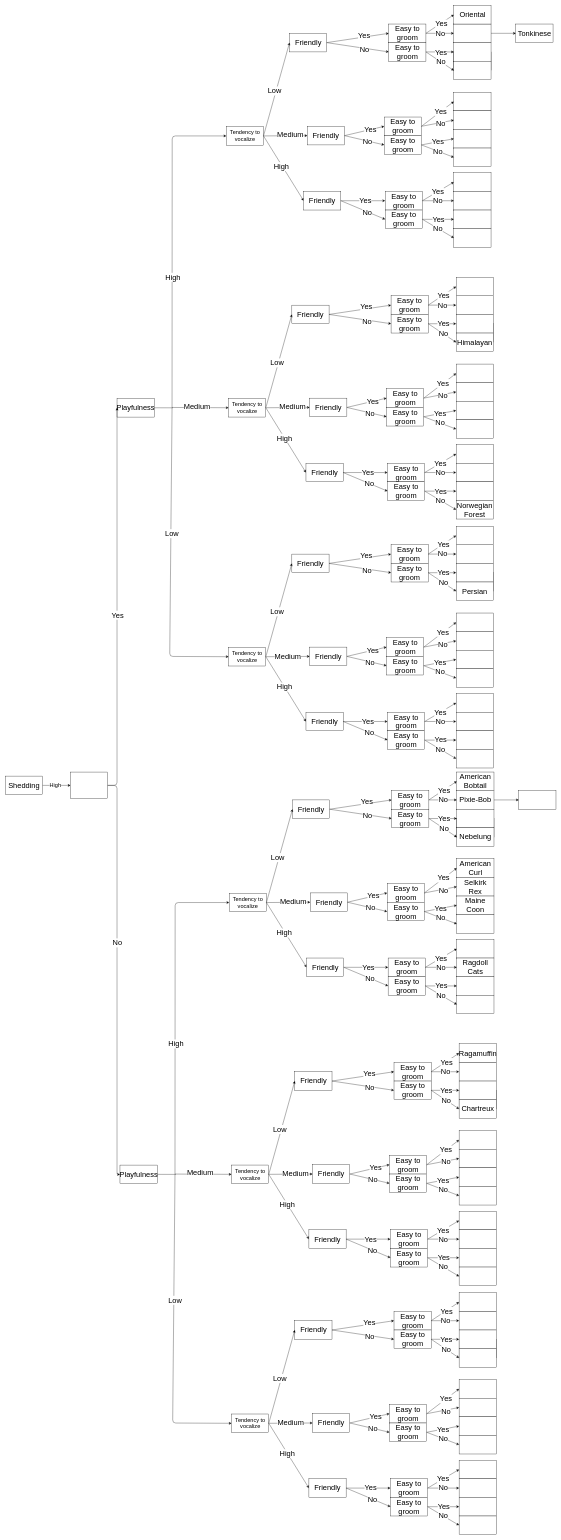
Some shapes in this 561 by 1540 pixel diagram are drawn without their labels. Each missing label, with the centre of its shape:
Cymric: (472,33)
prone to health problem: (89,785)
Siberian: (537,799)
